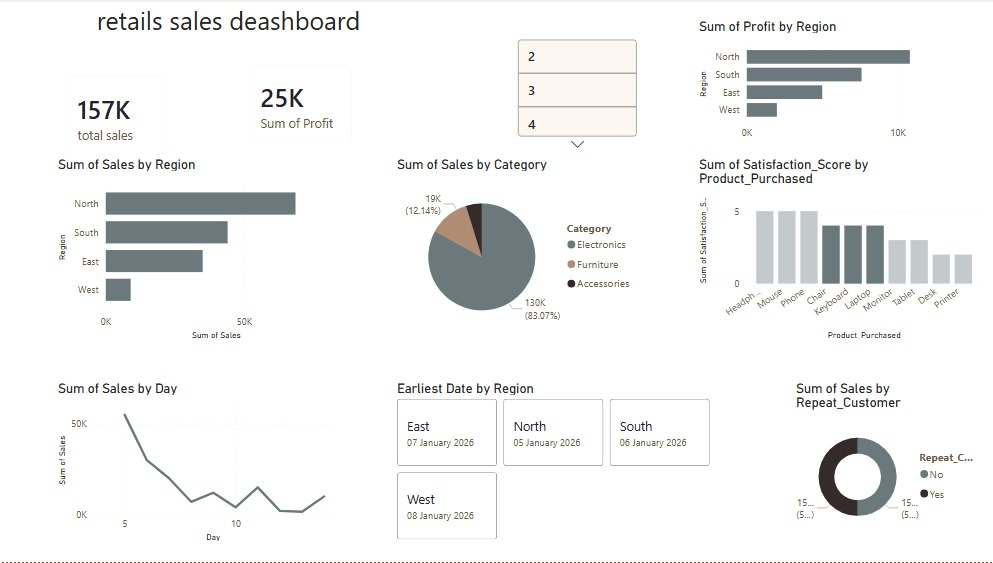

Layout of this report page (visuals, bound fields, positions):
{"tool":"powerbi","page":{"name":"Page 1","canvas":[1280,720],"ordinal":0},"visuals":[{"type":"cardVisual","fields":{"Data":["Customer_Relationships.total sales"]},"box":[73.3,81,161.9,140.1],"z":0},{"type":"cardVisual","fields":{"Data":["Sum(Sales_Data.Profit)"]},"box":[306.9,66.5,165,135.5],"z":1000},{"type":"cardVisual","fields":{"Rows":["Customer_Relationships.Satisfaction_Score"]},"box":[661.1,26.9,162.4,175.2],"z":2000},{"type":"clusteredBarChart","fields":{"Category":["Sales_Data.Region"],"Y":["Sum(Sales_Data.Sales)"]},"box":[72.9,200.8,364.4,239.1],"z":3000},{"type":"pieChart","fields":{"Category":["Sales_Data.Category"],"Y":["Sum(Sales_Data.Sales)"]},"box":[506.4,200.8,317.1,239.1],"z":4000},{"type":"columnChart","fields":{"Y":["Sum(Customer_Relationships.Satisfaction_Score)"],"Category":["Customer_Relationships.Product_Purchased"]},"box":[892.5,200.8,370.8,239.1],"z":5000},{"type":"donutChart","fields":{"Category":["Customer_Relationships.Repeat_Customer"],"Y":["Sum(Sales_Data.Sales)"]},"box":[1016.6,487.2,246.8,209.7],"z":6000},{"type":"lineChart","fields":{"Category":["Sales_Data.Date.Variation.Date Hierarchy.Day"],"Y":["Sum(Sales_Data.Sales)"]},"box":[72.9,487.2,360.6,211],"z":7000},{"type":"advancedSlicerVisual","fields":{"Values":["Sales_Data.Region"],"Label":["Min(Sales_Data.Date)"]},"box":[506.4,487.2,411.7,209.7],"z":8000},{"type":"textbox","box":[110,0,372.1,70.3],"z":8001},{"type":"barChart","fields":{"Y":["Sum(Sales_Data.Profit)"],"Category":["Sales_Data.Region"]},"box":[892.5,24.3,370.8,165],"z":8002}]}

Visuals, with their boxes in screenshot pixels (x1, y1, x2, y2), scaled from the page's 1280x720 canvas onto the 993x563 screenshot:
cardVisual - Customer_Relationships.total sales: bbox=(57, 63, 182, 173)
cardVisual - Sum(Sales_Data.Profit): bbox=(238, 52, 366, 158)
cardVisual - Customer_Relationships.Satisfaction_Score: bbox=(513, 21, 639, 158)
clusteredBarChart - Sales_Data.Region x Sum(Sales_Data.Sales): bbox=(57, 157, 339, 344)
pieChart - Sales_Data.Category x Sum(Sales_Data.Sales): bbox=(393, 157, 639, 344)
columnChart - Sum(Customer_Relationships.Satisfaction_Score) x Customer_Relationships.Product_Purchased: bbox=(692, 157, 980, 344)
donutChart - Customer_Relationships.Repeat_Customer x Sum(Sales_Data.Sales): bbox=(789, 381, 980, 545)
lineChart - Sales_Data.Date.Variation.Date Hierarchy.Day x Sum(Sales_Data.Sales): bbox=(57, 381, 336, 546)
advancedSlicerVisual - Sales_Data.Region x Min(Sales_Data.Date): bbox=(393, 381, 712, 545)
textbox: bbox=(85, 0, 374, 55)
barChart - Sum(Sales_Data.Profit) x Sales_Data.Region: bbox=(692, 19, 980, 148)
